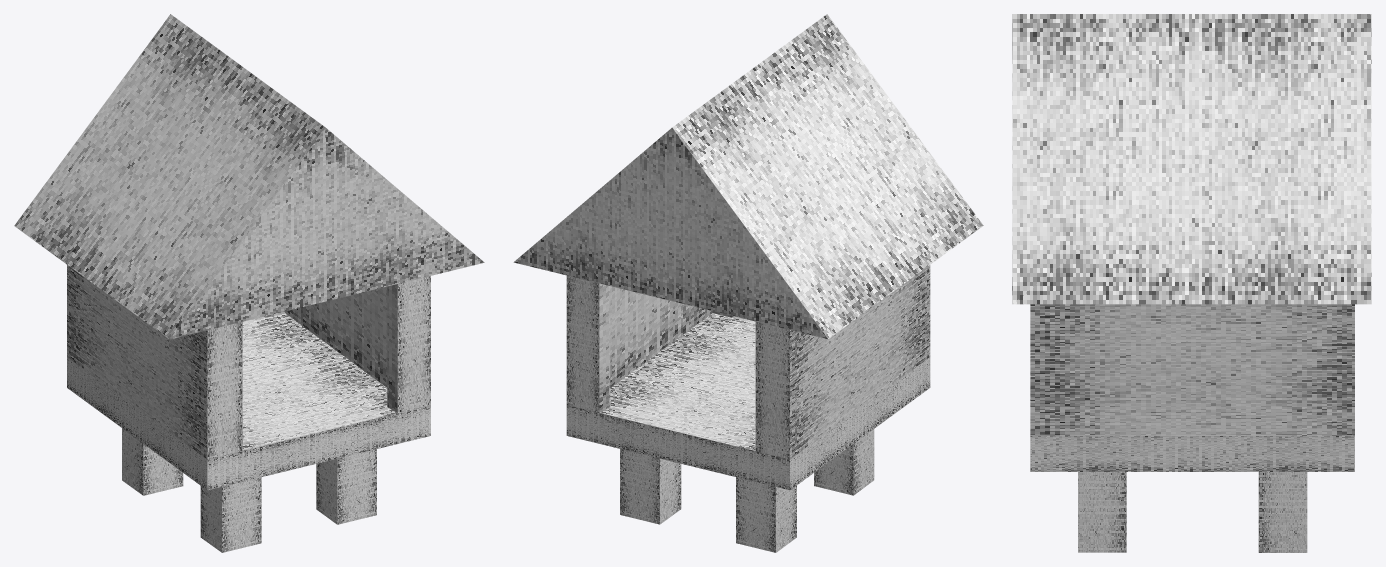
Rendered from shrineStilt.fbx.
The picture shows the model from 3 angles, left to right: view 1: azimuth 30°, elevation 25°; view 2: azimuth 150°, elevation 25°; view 3: azimuth 270°, elevation 25°; orthographic projection. The views are drawn at different scales.
Parts seen in each view (by area): view 1: lightHouseWStilts; view 2: lightHouseWStilts; view 3: lightHouseWStilts.
Part boxes in pixels (box(x1,y1,x2,y2)): lightHouseWStilts: box(14, 14, 484, 552); lightHouseWStilts: box(513, 14, 983, 552); lightHouseWStilts: box(1012, 14, 1371, 552).
Size of the model in its own units: 8.18 by 10.59 by 6.98.
